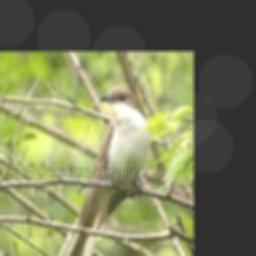Cuckoo: (56, 86, 150, 256)
